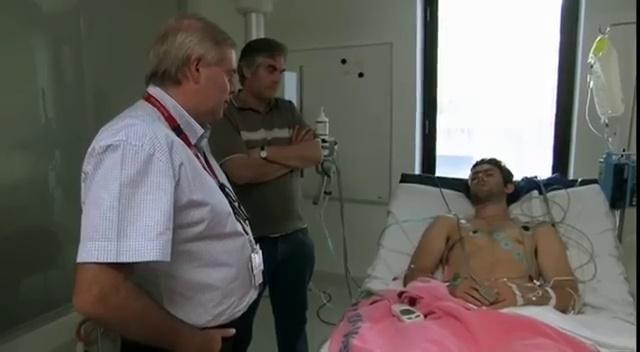doctor: (71, 12, 266, 351)
others: (206, 36, 325, 351)
patient: (319, 159, 632, 351)
